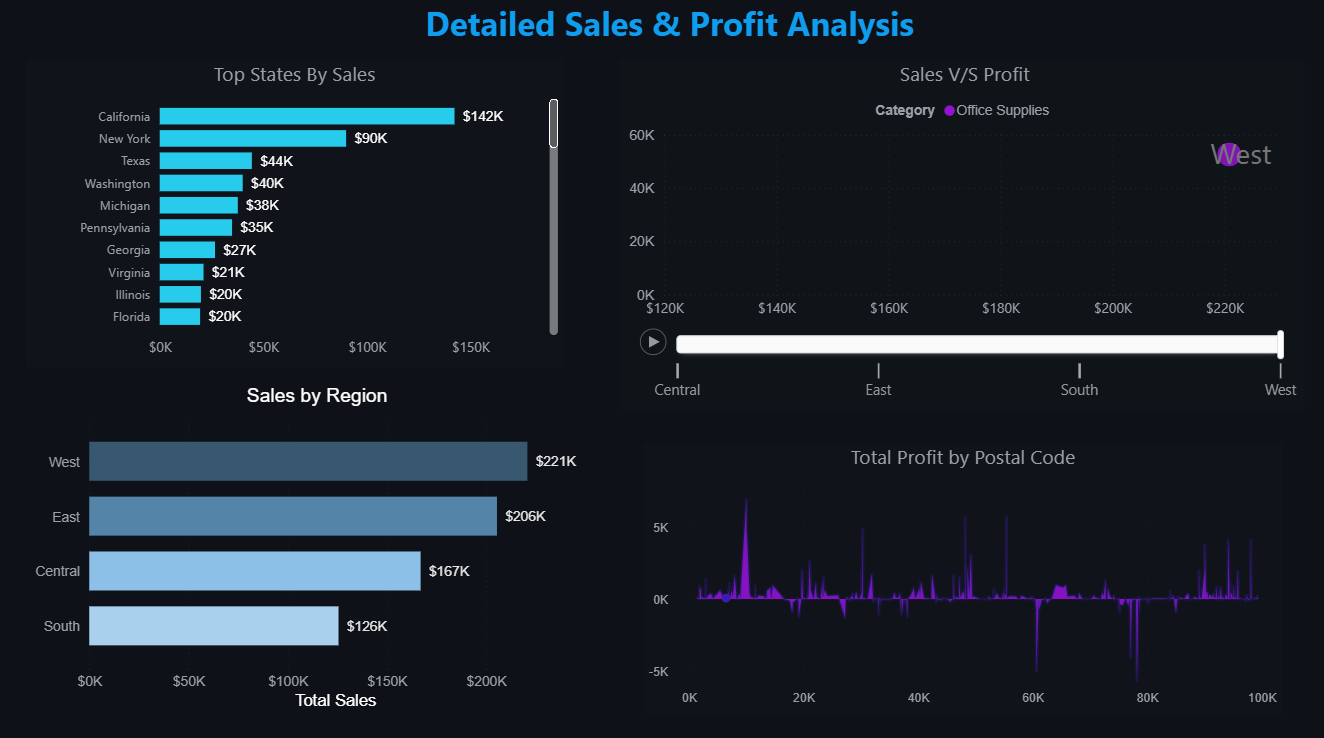

The page's visual inventory and layout, read from the dashboard file:
{"tool":"powerbi","page":{"name":"Page 4","canvas":[1280,720],"ordinal":1},"visuals":[{"type":"barChart","title":"Top States By Sales","fields":{"Category":["Sample - Superstore.State"],"Y":["Sample - Superstore.Total Sales"]},"box":[25,63.3,518.3,296.7],"z":0},{"type":"lineChart","fields":{"Category":["Sample - Superstore.Postal Code"],"Y":["Sample - Superstore.Total Profit"]},"box":[621.7,433.3,616.7,261.7],"z":2000},{"type":"scatterChart","title":"Sales V/S Profit","fields":{"X":["Sample - Superstore.Total Sales"],"Y":["Sample - Superstore.Total Profit"],"Size":["Sample - Superstore.Total Quantity"],"Series":["Sample - Superstore.Category"],"Play":["Sample - Superstore.Region"]},"box":[598.3,63.3,661.7,338.3],"z":3000},{"type":"textbox","box":[405,0,496.7,63.3],"z":5000},{"type":"barChart","title":"Sales by Region","fields":{"Category":["Sample - Superstore.Region"],"Y":["Sample - Superstore.Total Sales"]},"box":[25,376.7,561.7,318.3],"z":5001}]}

Visuals, with their boxes in screenshot pixels (x1, y1, x2, y2), scaled from the page's 1280x720 canvas onto the 1324x738 screenshot:
"Top States By Sales" barChart: <region>26, 65, 562, 369</region>
lineChart - Sample - Superstore.Postal Code x Sample - Superstore.Total Profit: <region>643, 444, 1281, 712</region>
"Sales V/S Profit" scatterChart: <region>619, 65, 1303, 412</region>
textbox: <region>419, 0, 933, 65</region>
"Sales by Region" barChart: <region>26, 386, 607, 712</region>
